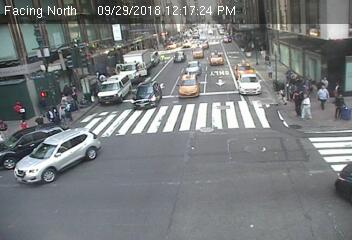car: (14, 128, 98, 185), (1, 126, 65, 163), (113, 48, 153, 79), (98, 71, 130, 104), (133, 78, 161, 112), (236, 71, 263, 96), (177, 72, 200, 98), (234, 59, 255, 78), (184, 58, 201, 74), (209, 51, 225, 66), (147, 49, 159, 66), (192, 43, 203, 60), (174, 49, 185, 62), (221, 33, 231, 43), (181, 39, 191, 49), (165, 40, 175, 49), (201, 40, 208, 48)
